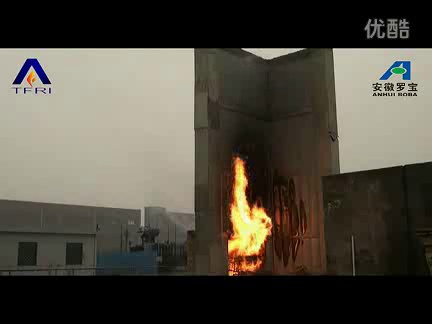fire: (220, 156, 272, 274)
